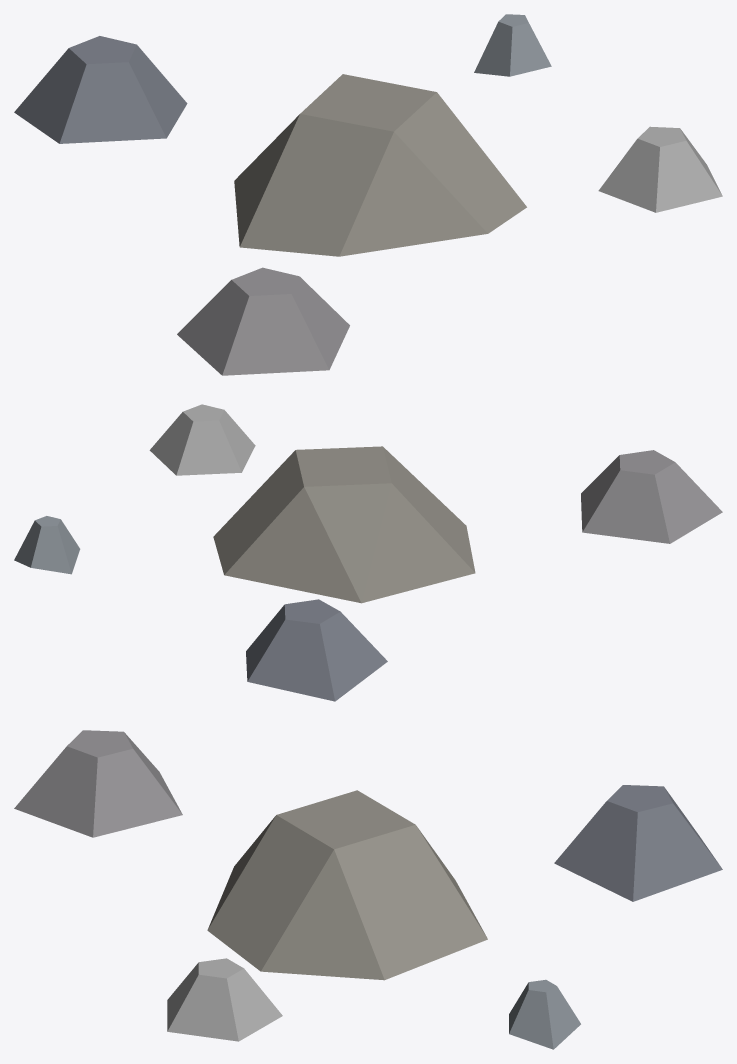
File: Rocks_Round_s_01.fbx
3 renders of one model, top to bottom at view 1: azimuth 30°, elevation 25°; view 2: azimuth 150°, elevation 25°; view 3: azimuth 270°, elevation 25°, orthographic. The views are drawn at different scales.
Visible parts, largest first — view 1: Rocks_Round_s_01; view 2: Rocks_Round_s_01; view 3: Rocks_Round_s_01.
Boxes of the visible parts, left/top/right/bottom form: Rocks_Round_s_01: left=14, top=14, right=722, bottom=375; Rocks_Round_s_01: left=14, top=404, right=722, bottom=701; Rocks_Round_s_01: left=14, top=730, right=722, bottom=1049.
Bounding box in the file's own units: 0.5076 × 0.0844 × 0.5543.
